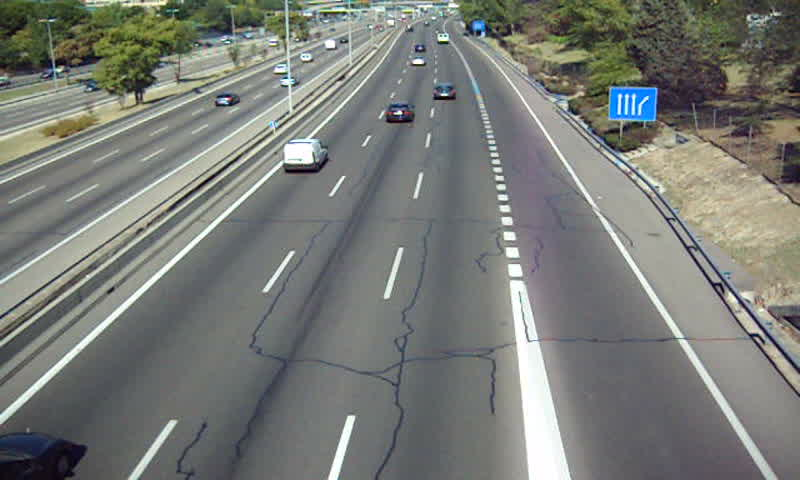car: (384, 102, 414, 124), (431, 82, 458, 102)
van: (282, 141, 328, 172)
